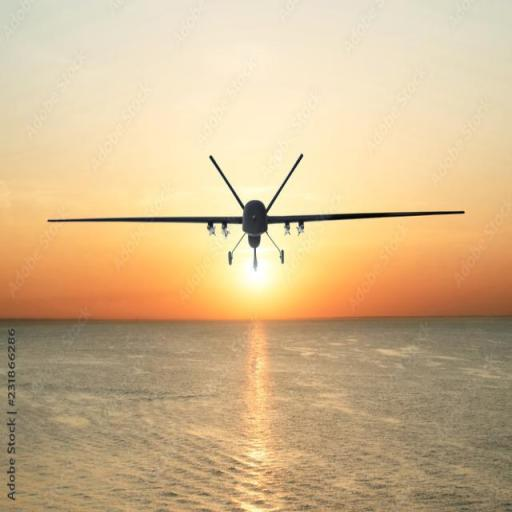uav: (40, 148, 470, 272)
